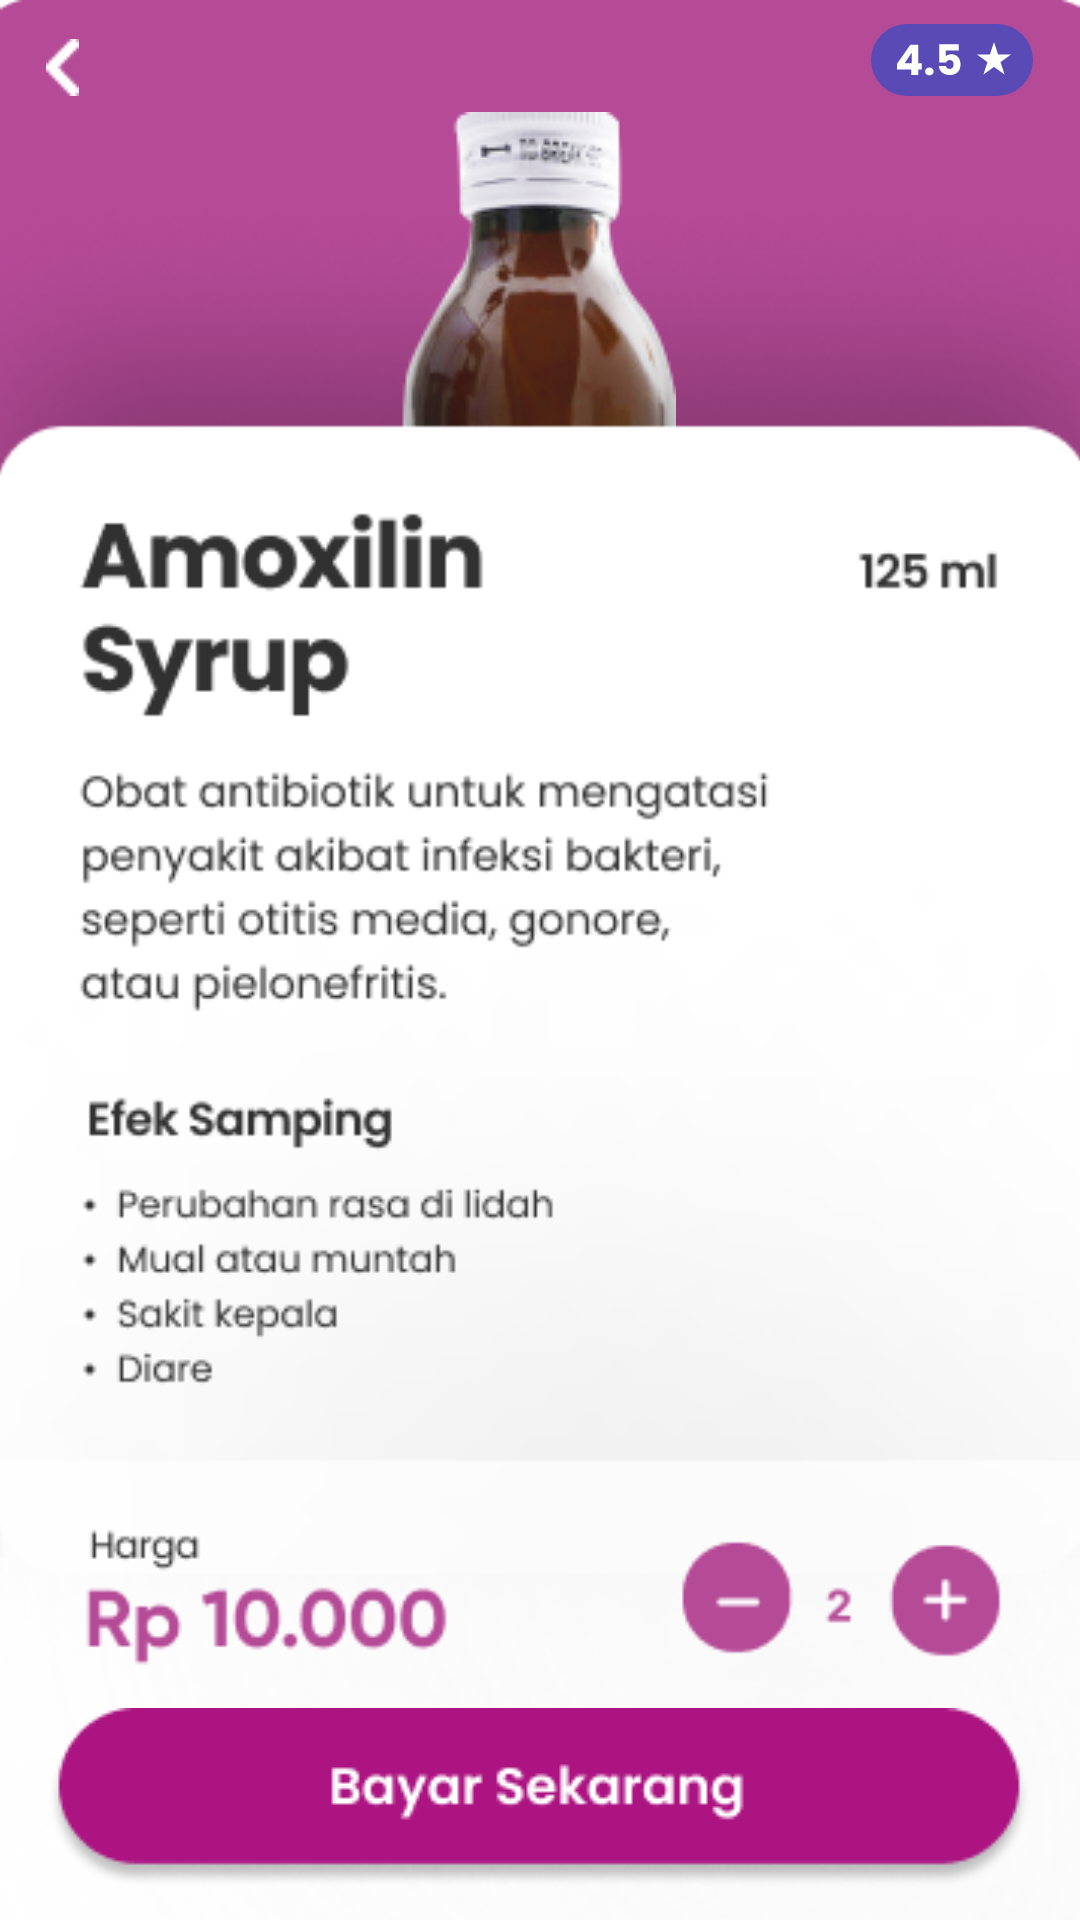

Icon click points for this 1080px x 1920px phone screenshot, format (x,y):
back: (62,67)
